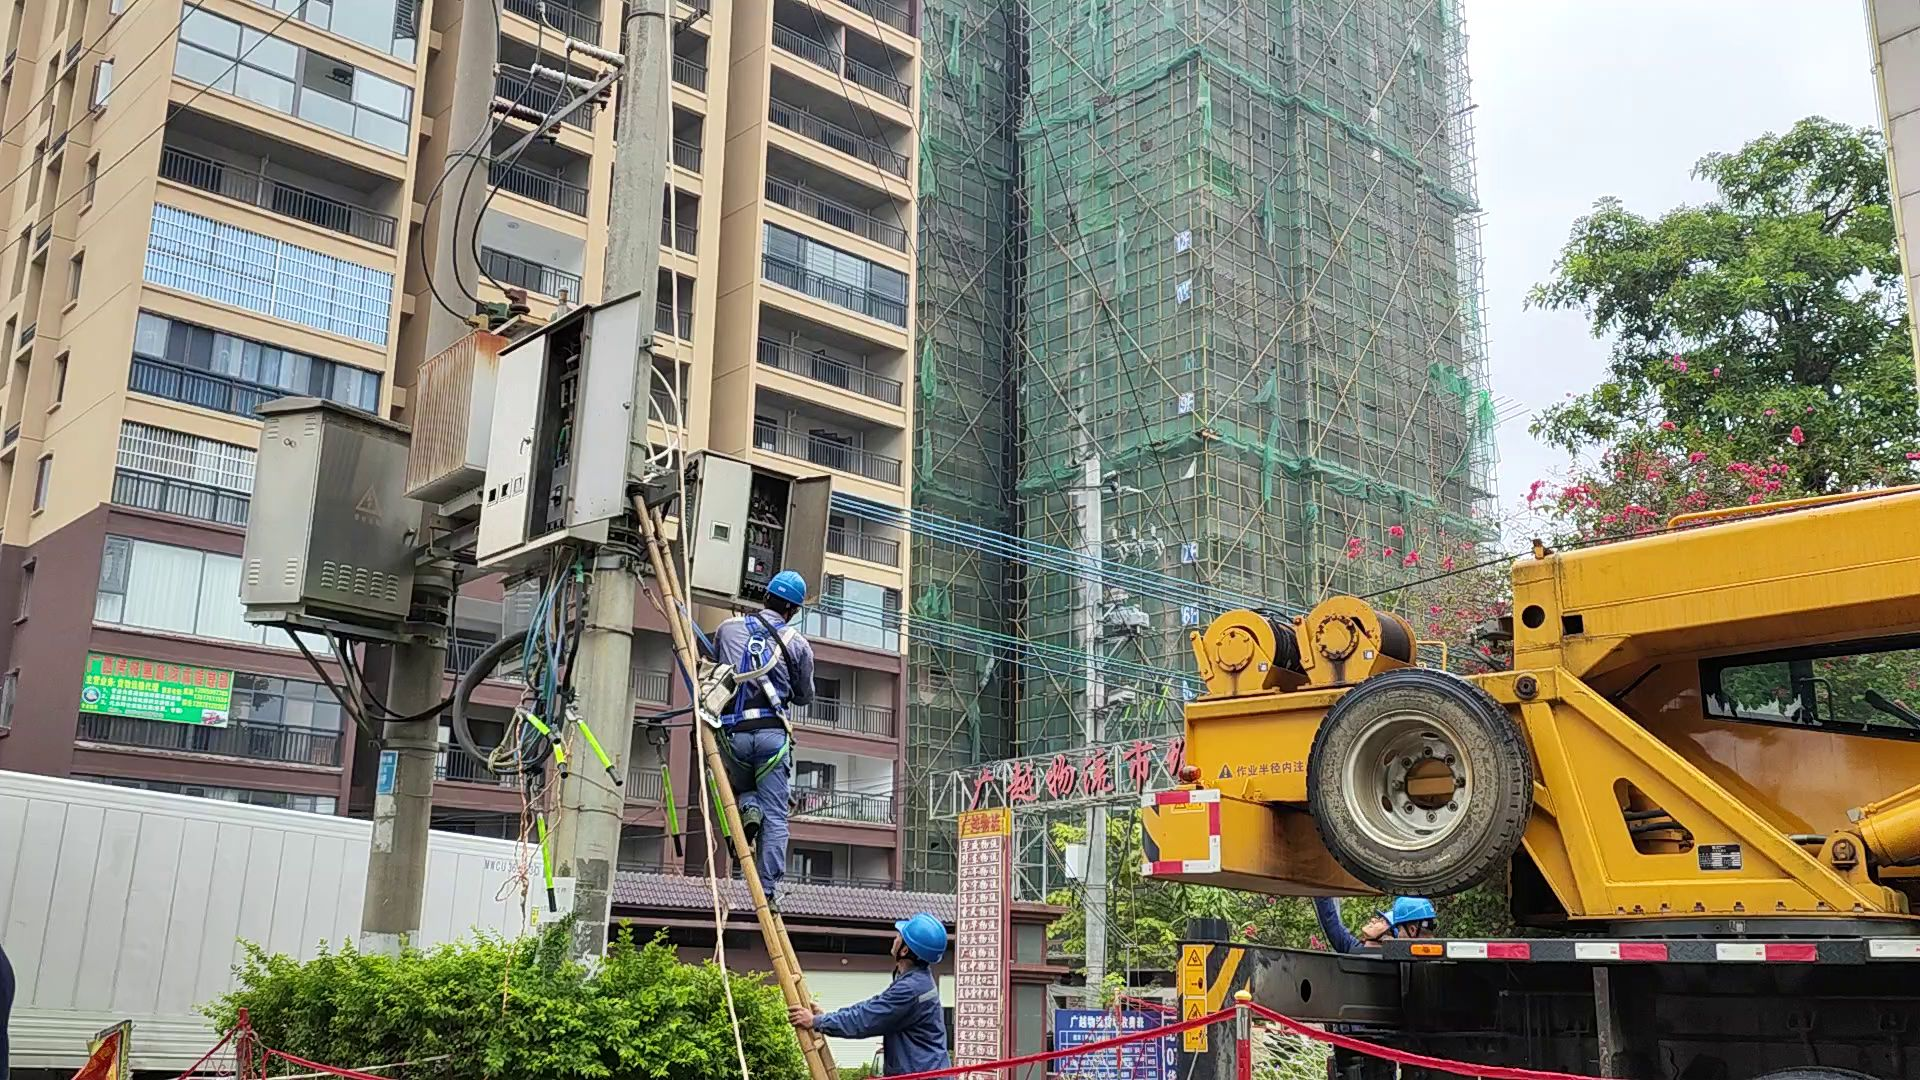downsuit: (719, 724, 799, 886)
halt: (893, 912, 951, 969), (1383, 892, 1441, 939), (762, 569, 809, 614)
hand: (789, 997, 825, 1034)
inear: (892, 936, 919, 962)
person: (699, 565, 822, 899), (817, 909, 958, 1076)
safebelt: (650, 582, 803, 785)
support: (786, 912, 966, 1080)
upsuit: (821, 969, 955, 1078), (707, 606, 816, 716)
